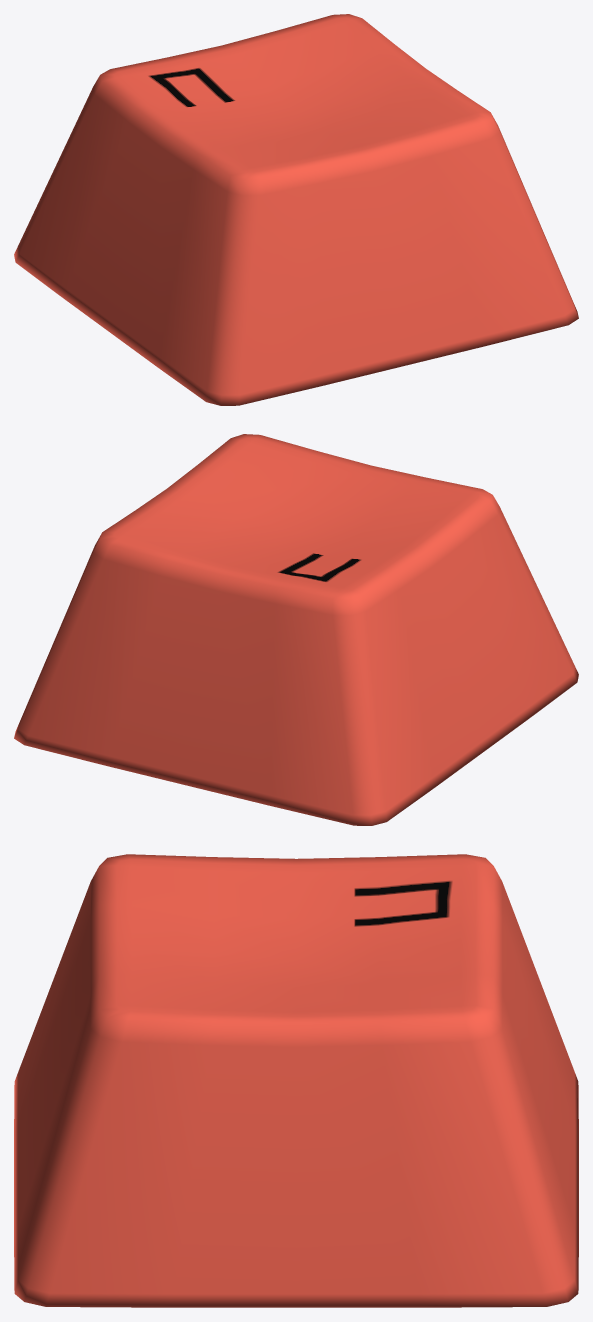
File: keycap.glb
3 views of the same model, one above another, from view 1: azimuth 30°, elevation 25°; view 2: azimuth 150°, elevation 25°; view 3: azimuth 270°, elevation 25° (orthographic). The views are drawn at different scales.
Parts seen in each view (by area): view 1: key_П; view 2: key_П; view 3: key_П.
Part boxes in pixels (bbox=[...]): key_П: bbox=[14, 14, 578, 405]; key_П: bbox=[14, 434, 578, 825]; key_П: bbox=[14, 854, 578, 1307].
Size of the model in its own units: 2.1 by 1.04 by 2.1.
Materials: 1 (1 with a texture image).
